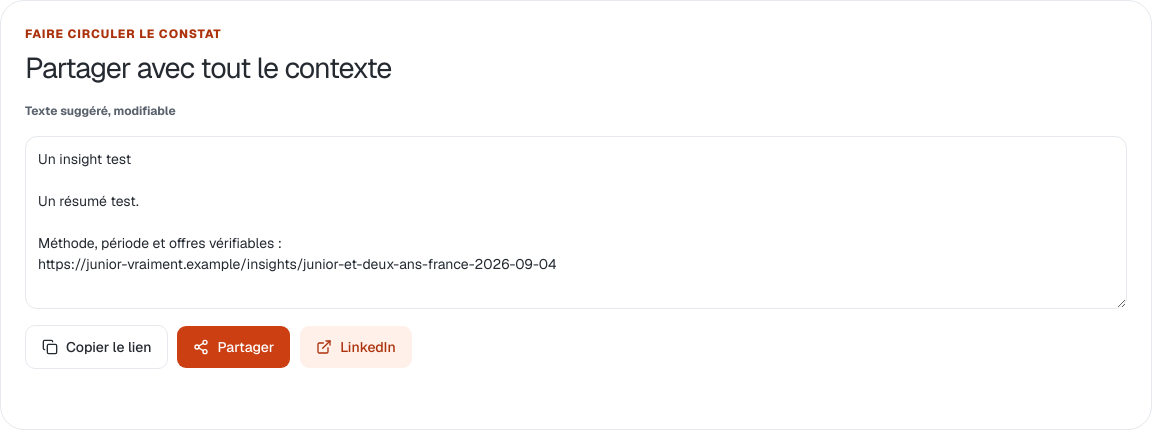
it: InsightShare › copies only the canonical URL
What coordinates should you click on to do the following:
click the button "Copier le lien"
I would click on:
 (97, 346)
Its box is [25,324,168,368].
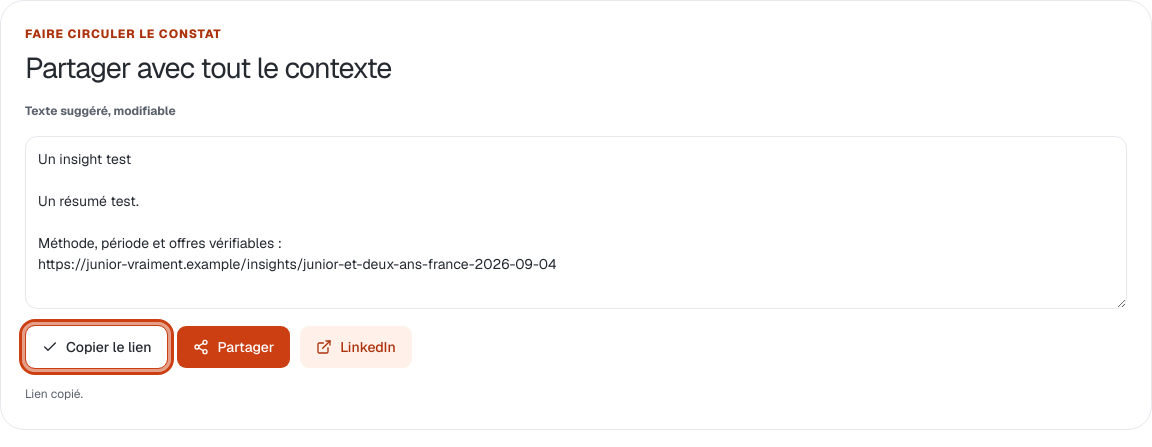
Now the text "Lien copié." is shown, box [25,386,83,402]
